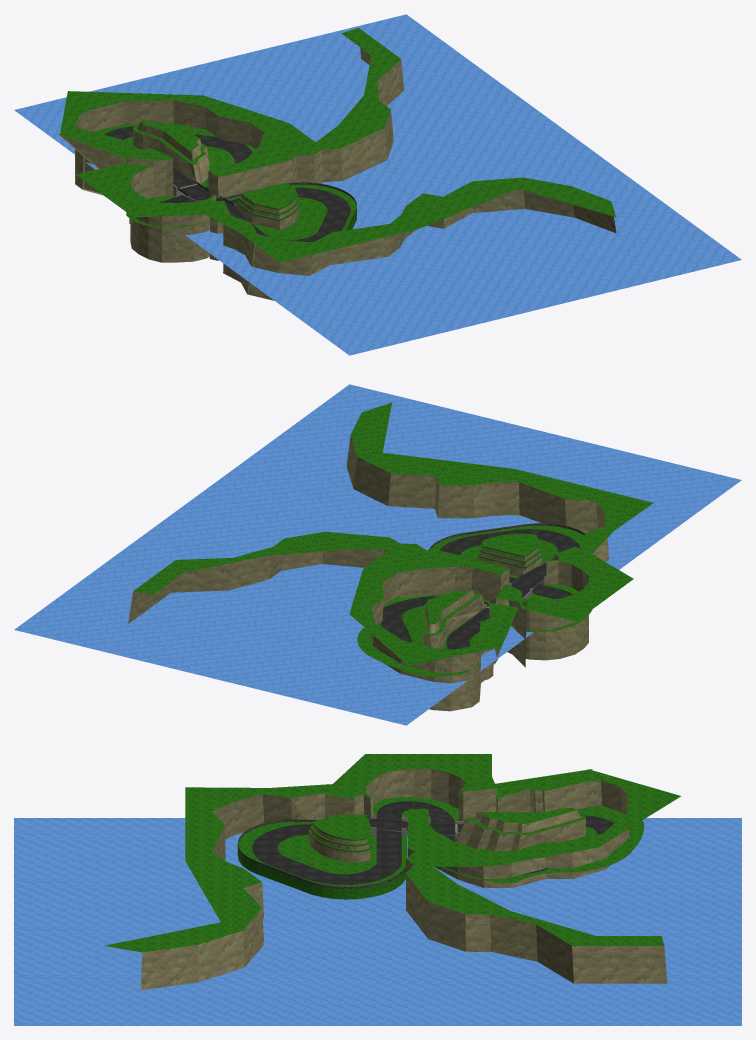
The picture shows the model from 3 angles, top to bottom: view 1: azimuth 30°, elevation 25°; view 2: azimuth 150°, elevation 25°; view 3: azimuth 270°, elevation 25°; orthographic projection. The views are drawn at different scales.
Parts seen in each view (by area): view 1: model_Main_Water_Layer_2, model_Main_Grass, model_Main_WallRock, model_Main_RoadLeft; view 2: model_Main_Water_Layer_2, model_Main_Grass, model_Main_WallRock, model_Main_RoadLeft; view 3: model_Main_Water_Layer_2, model_Main_Grass, model_Main_WallRock, model_Main_RoadLeft, model_Main_WallBorder.
Boxes of the visible parts, x1=… form: model_Main_Water_Layer_2: x1=14, y1=14, x2=741, y2=355; model_Main_Grass: x1=58, y1=28, x2=615, y2=262; model_Main_WallRock: x1=58, y1=48, x2=616, y2=300; model_Main_RoadLeft: x1=104, y1=126, x2=350, y2=242; model_Main_Water_Layer_2: x1=14, y1=384, x2=741, y2=725; model_Main_Grass: x1=133, y1=402, x2=653, y2=676; model_Main_WallRock: x1=128, y1=435, x2=608, y2=711; model_Main_RoadLeft: x1=380, y1=529, x2=579, y2=649; model_Main_Water_Layer_2: x1=14, y1=818, x2=741, y2=1025; model_Main_Grass: x1=104, y1=754, x2=681, y2=952; model_Main_WallRock: x1=140, y1=768, x2=667, y2=990; model_Main_RoadLeft: x1=252, y1=801, x2=614, y2=884; model_Main_WallBorder: x1=237, y1=816, x2=454, y2=888.
Size of the model in its own units: 154753 by 22088 by 201520.
Materials: 7 (7 with a texture image).
